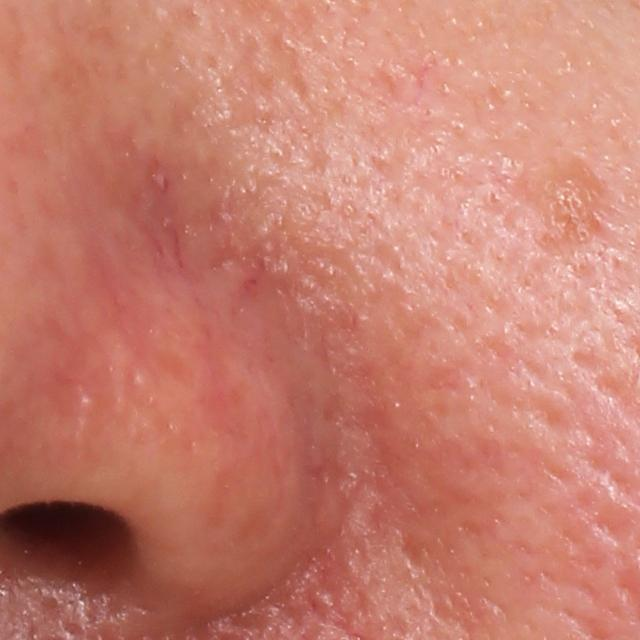other: (537, 155, 611, 259)
